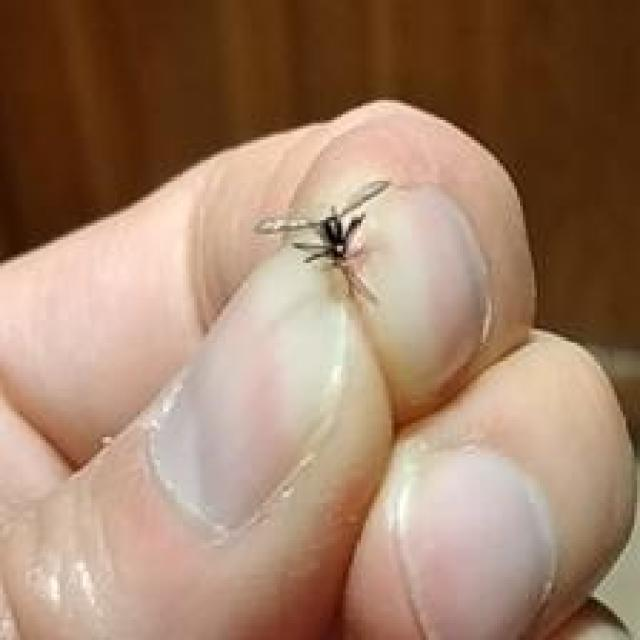Aedes albopictus: (253, 177, 393, 306)
